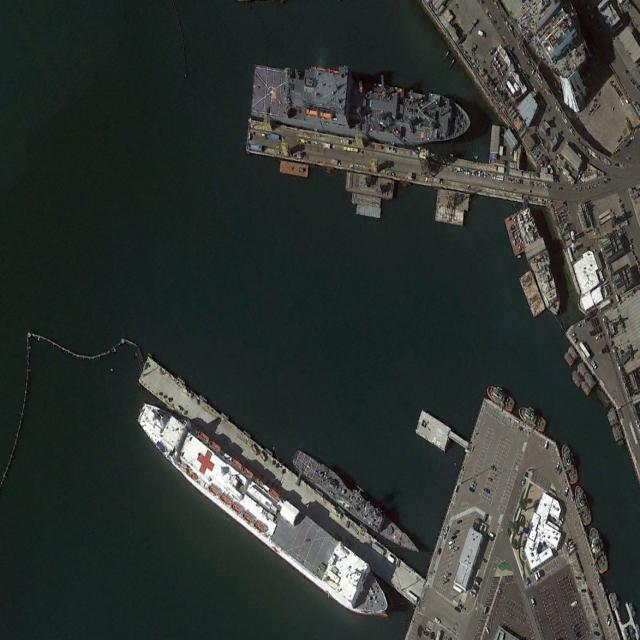Auxiliary Ships: (130, 388, 397, 634)
Commander: (250, 49, 474, 158)
Frigate: (289, 441, 426, 561)
